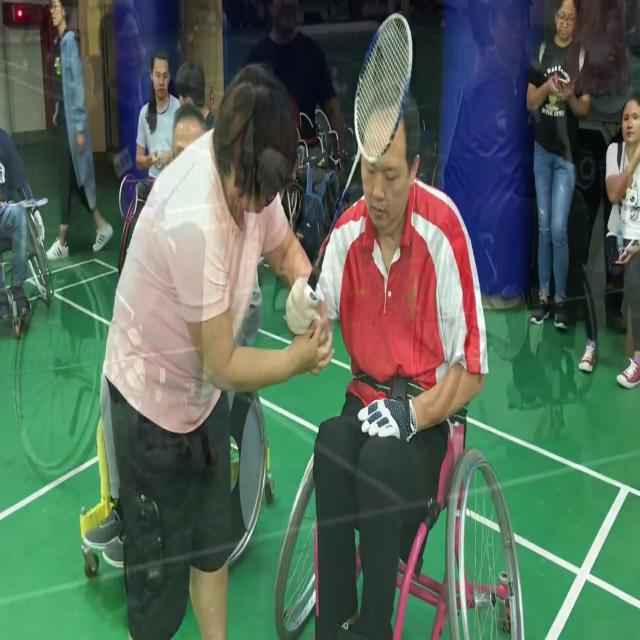wheelchairs: (273, 355, 534, 640), (2, 233, 222, 490)
